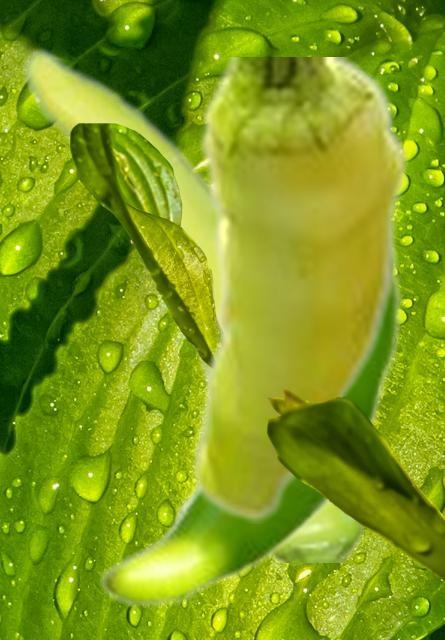green_chili: (23, 45, 362, 561), (97, 234, 402, 608), (189, 57, 408, 522)
